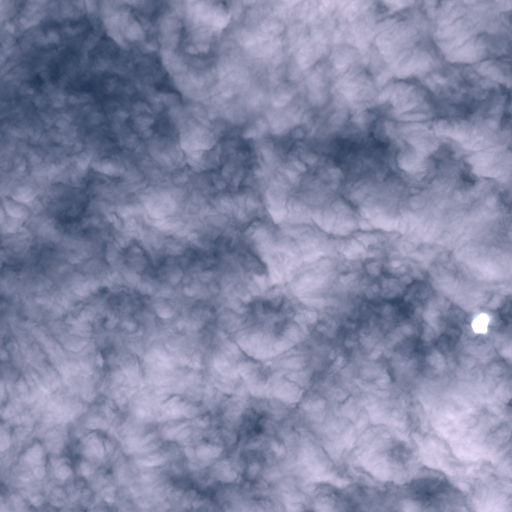Iceberg: (471, 313, 489, 334)
